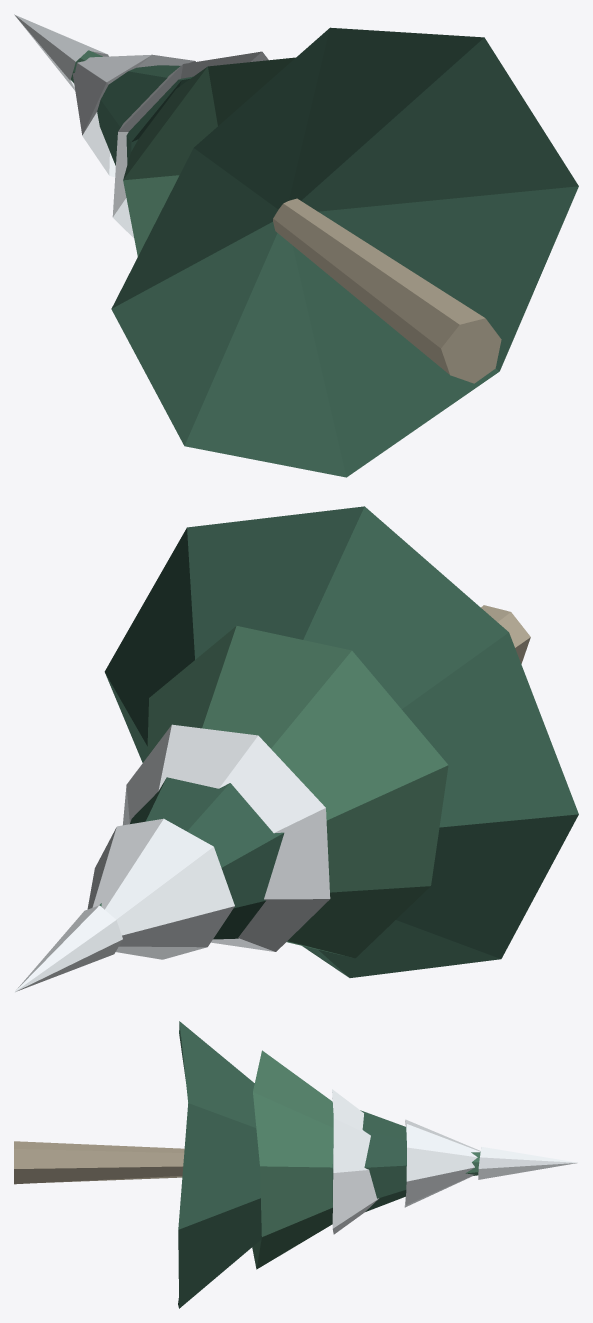
File: TreeConiferD1.fbx
3 views of the same model, one above another, from view 1: azimuth 30°, elevation 25°; view 2: azimuth 150°, elevation 25°; view 3: azimuth 270°, elevation 25° (orthographic). The views are drawn at different scales.
Parts seen in each view (by area): view 1: M_Tree_Pine_Dark, M_Tree_PaleWood, M_Tree_Pine_Mid, M_Tree_Snow; view 2: M_Tree_Pine_Dark, M_Tree_Pine_Mid, M_Tree_Snow, M_Tree_PaleWood; view 3: M_Tree_Pine_Dark, M_Tree_Pine_Mid, M_Tree_Snow, M_Tree_PaleWood.
Part boxes in pixels (x1=…): M_Tree_Pine_Dark: x1=97, y1=27, x2=578, y2=477; M_Tree_PaleWood: x1=273, y1=198, x2=501, y2=383; M_Tree_Pine_Mid: x1=71, y1=50, x2=295, y2=256; M_Tree_Snow: x1=14, y1=14, x2=268, y2=238; M_Tree_Pine_Dark: x1=104, y1=506, x2=578, y2=977; M_Tree_Pine_Mid: x1=99, y1=626, x2=448, y2=958; M_Tree_Snow: x1=14, y1=724, x2=330, y2=992; M_Tree_PaleWood: x1=481, y1=605, x2=530, y2=663; M_Tree_Pine_Dark: x1=178, y1=1021, x2=406, y2=1308; M_Tree_Pine_Mid: x1=252, y1=1050, x2=480, y2=1269; M_Tree_Snow: x1=332, y1=1089, x2=578, y2=1234; M_Tree_PaleWood: x1=14, y1=1141, x2=184, y2=1184.
Bounding box in the file's own units: 24.27 × 22.87 × 42.02.
